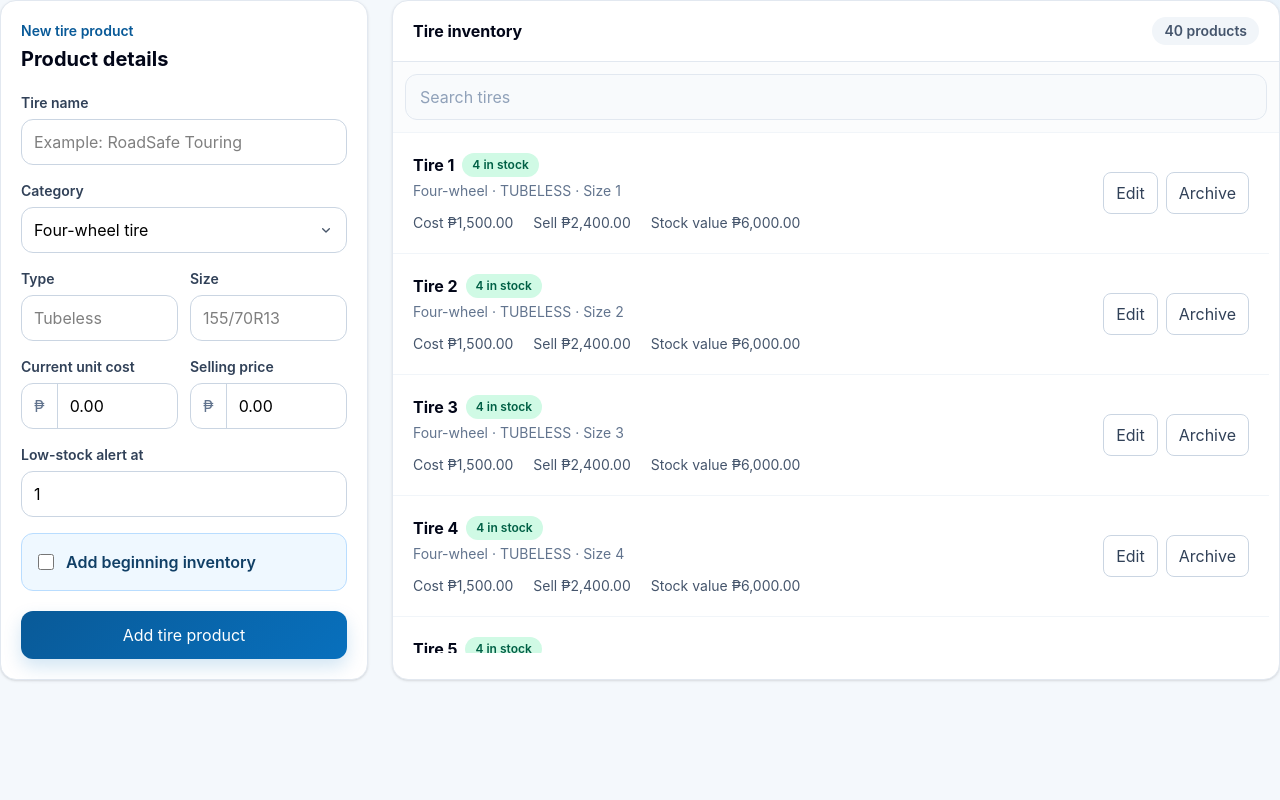
Test: Phase 5 tire inventory forms › keeps a long tire inventory scrollable and searchable
Expected: the text "40 products" is shown, [1152,17,1259,45]
Type "Size 40" into the search field named "Search tire inventory" at (836, 97), box [405,74,1267,120]
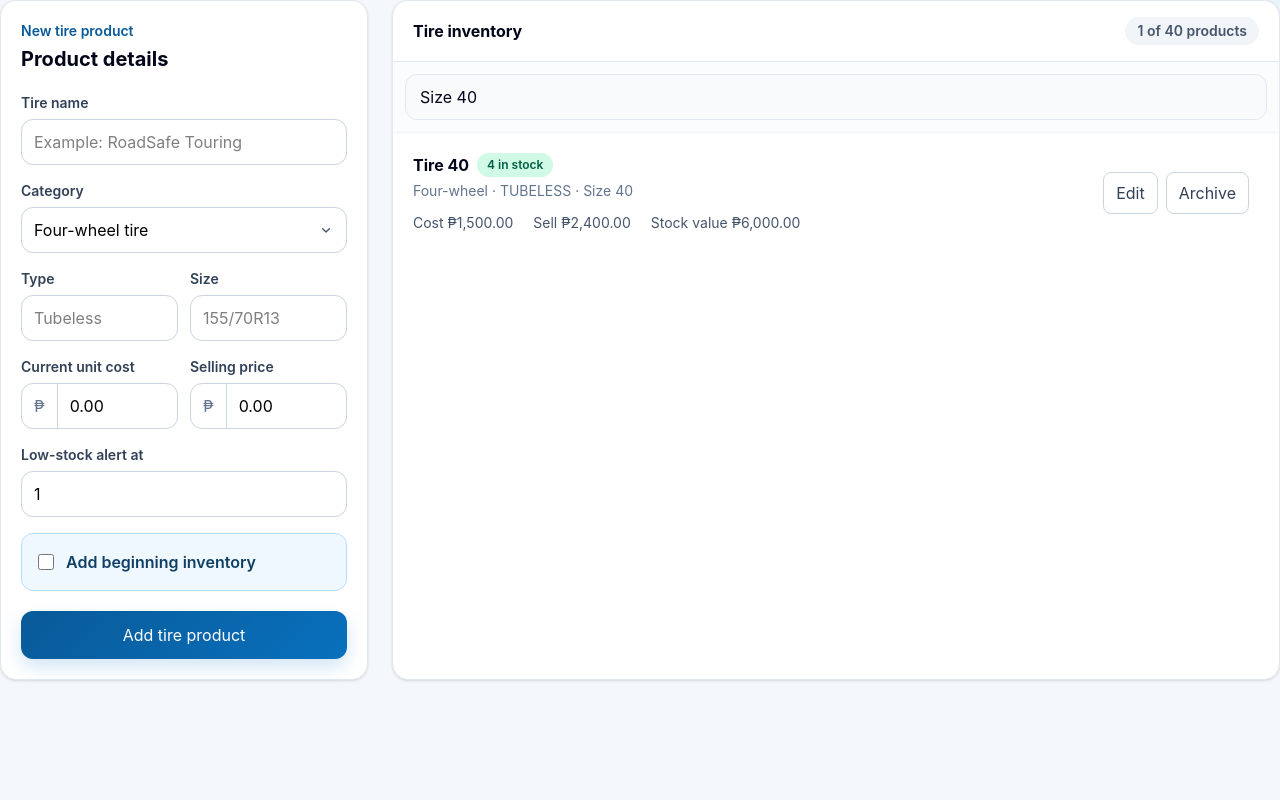
Now the text "1 of 40 products" is shown, box [1126,17,1259,45]
Now the heading "Tire 40" is shown, box [413,153,469,177]
Now the heading "Tire 1" is gone
